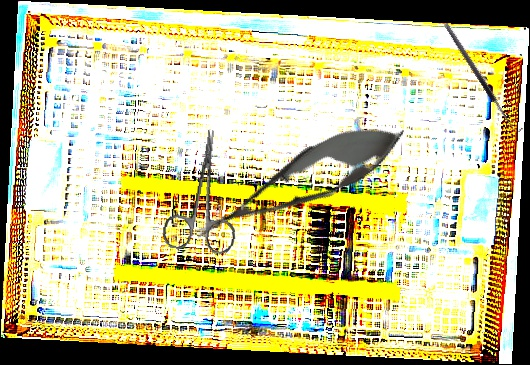Hook Surgical: (442, 18, 525, 136)
Iris Scissors: (160, 124, 251, 257)
Micro Scissor: (182, 104, 416, 262)
